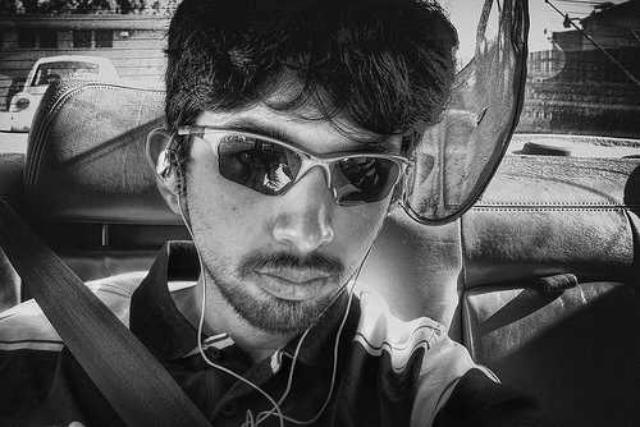Seatbelt: (1, 195, 218, 427)
